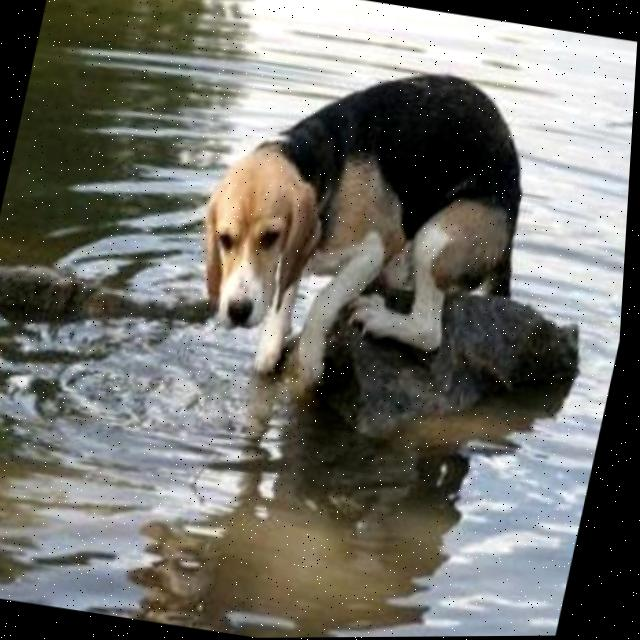dog: (157, 34, 562, 423)
